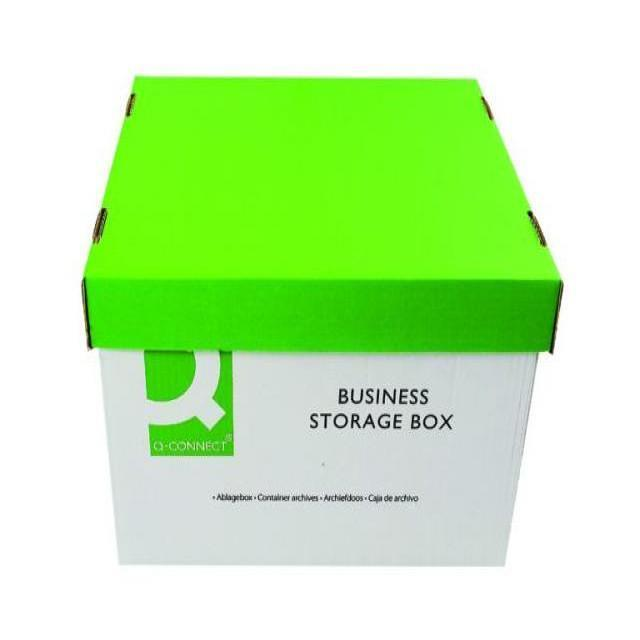box: (78, 70, 556, 578)
